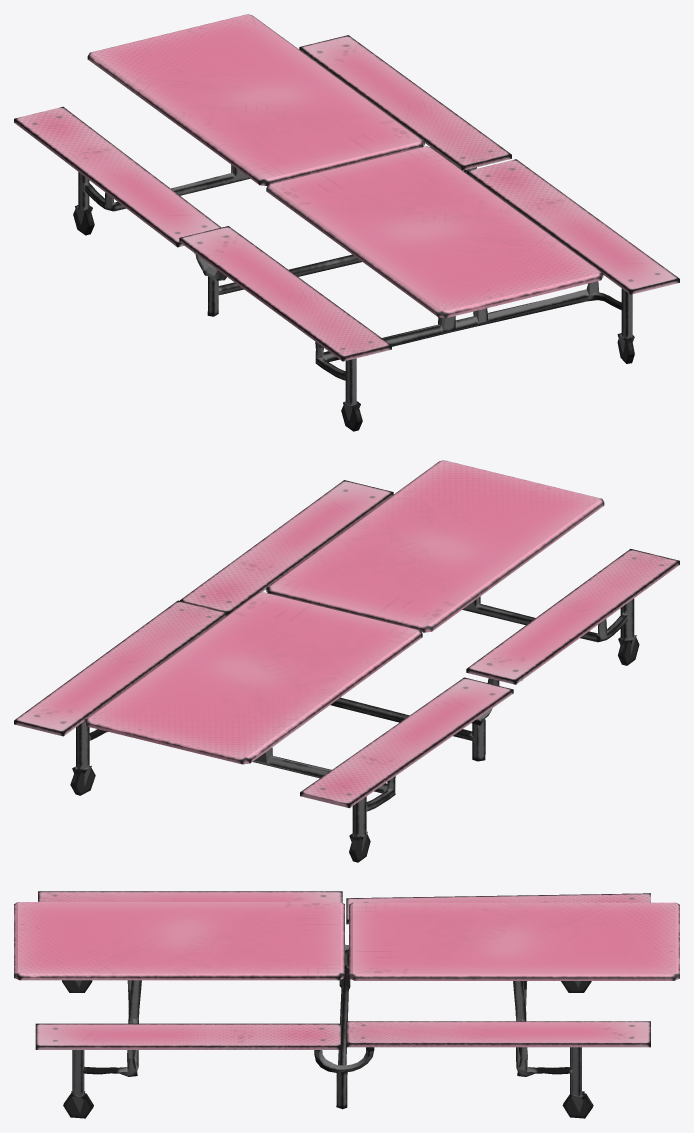
File: PinkBench (1).glb
The picture shows the model from 3 angles, top to bottom: view 1: azimuth 30°, elevation 25°; view 2: azimuth 150°, elevation 25°; view 3: azimuth 270°, elevation 25°; orthographic projection. The views are drawn at different scales.
Parts seen in each view (by area): view 1: Bench; view 2: Bench; view 3: Bench.
Part boxes in pixels (x1,y1,x2,y2): Bench: (14,14,679,431); Bench: (14,460,679,862); Bench: (14,891,679,1118).
Size of the model in its own units: 6.46 by 2.3 by 11.91.
1 material, 1 textured.
